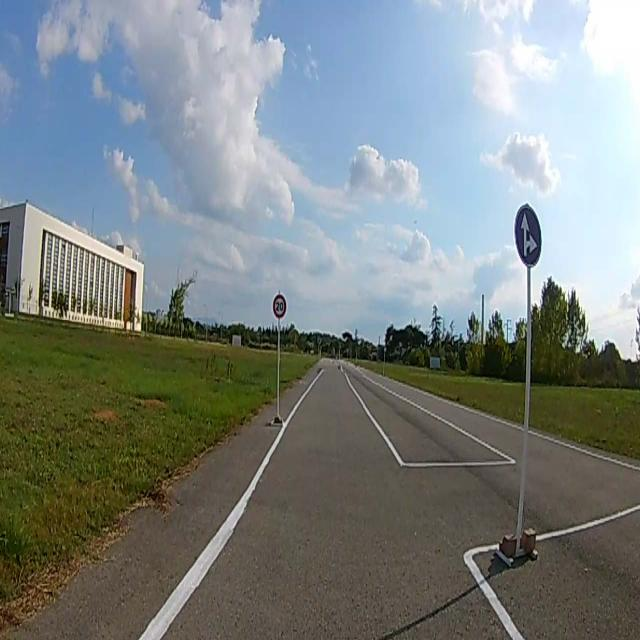20: (274, 293, 286, 320)
ilerisag: (514, 204, 542, 266)
